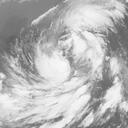cyclone: (34, 28, 101, 96)
